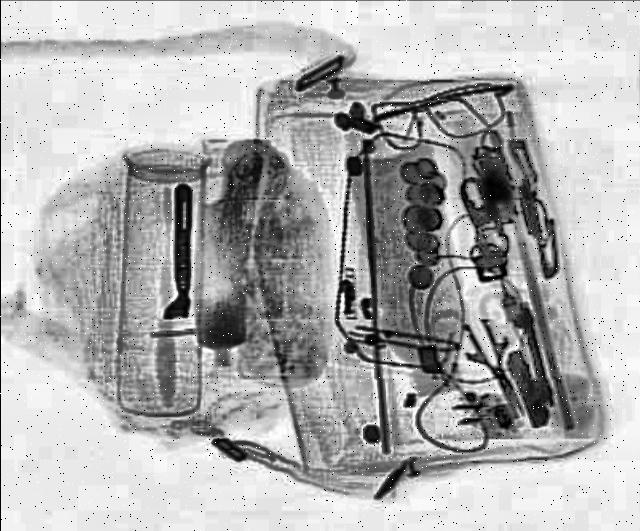Knife: (450, 314, 542, 424)
